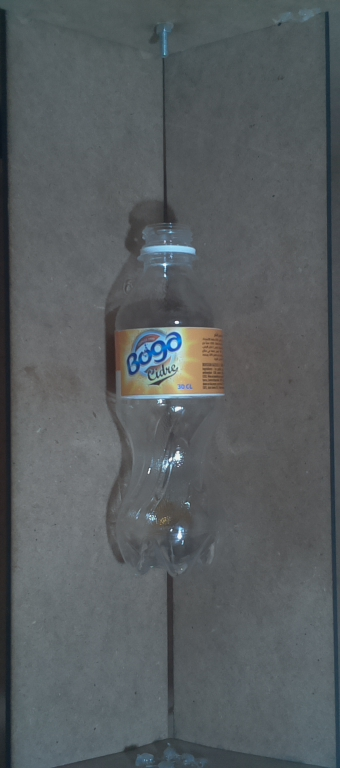Bouteille_0.3L: (100, 213, 235, 584)
